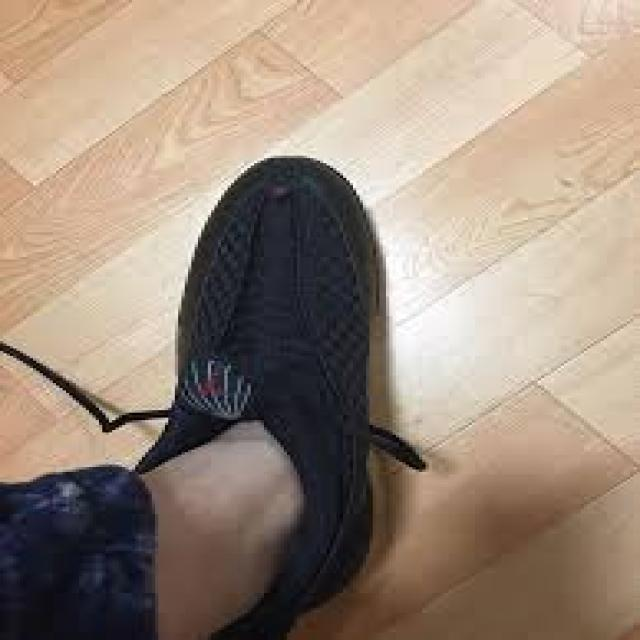shoe: (130, 150, 411, 610)
